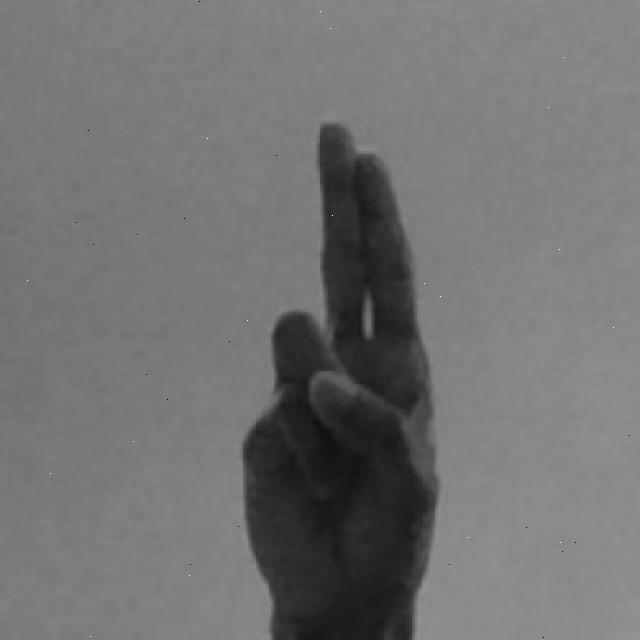U: (238, 115, 446, 640)
